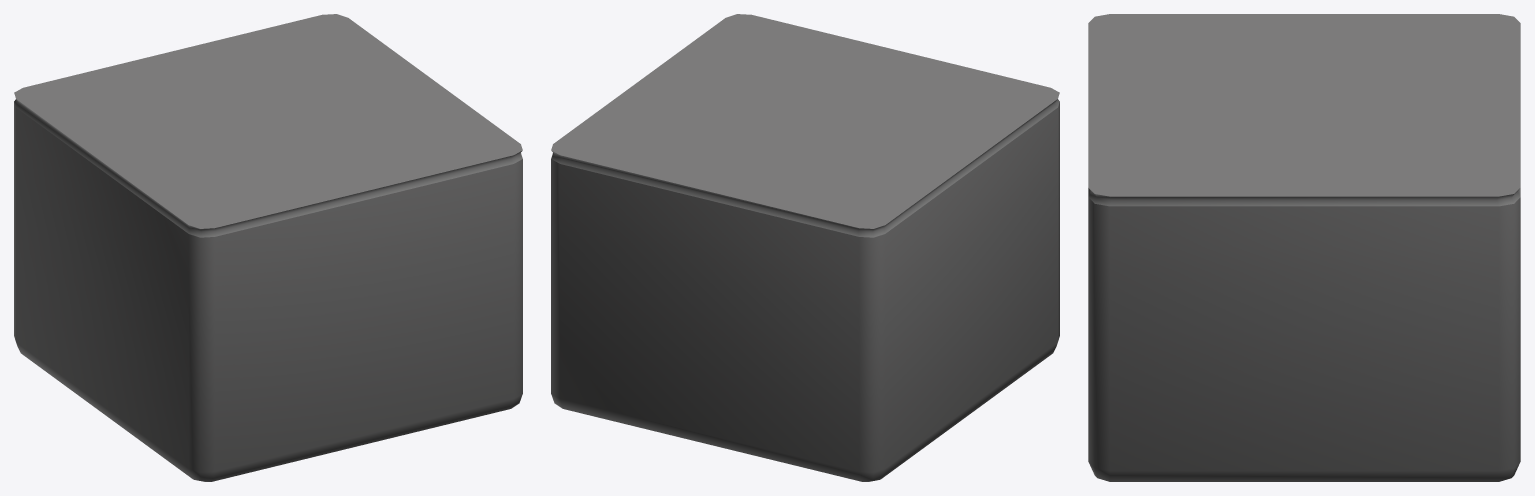
Rendered from 3D_Tile_Socket_Dungeon_04.fbx.
The picture shows the model from 3 angles, left to right: view 1: azimuth 30°, elevation 25°; view 2: azimuth 150°, elevation 25°; view 3: azimuth 270°, elevation 25°; orthographic projection. The views are drawn at different scales.
Parts seen in each view (by area): view 1: 3D_Tile_Socket_Dungeon_04; view 2: 3D_Tile_Socket_Dungeon_04; view 3: 3D_Tile_Socket_Dungeon_04.
Part boxes in pixels (bbox=[...]): 3D_Tile_Socket_Dungeon_04: bbox=[14, 14, 522, 481]; 3D_Tile_Socket_Dungeon_04: bbox=[551, 14, 1059, 481]; 3D_Tile_Socket_Dungeon_04: bbox=[1088, 14, 1520, 481].
Bounding box in the file's own units: 200 × 150 × 200.
